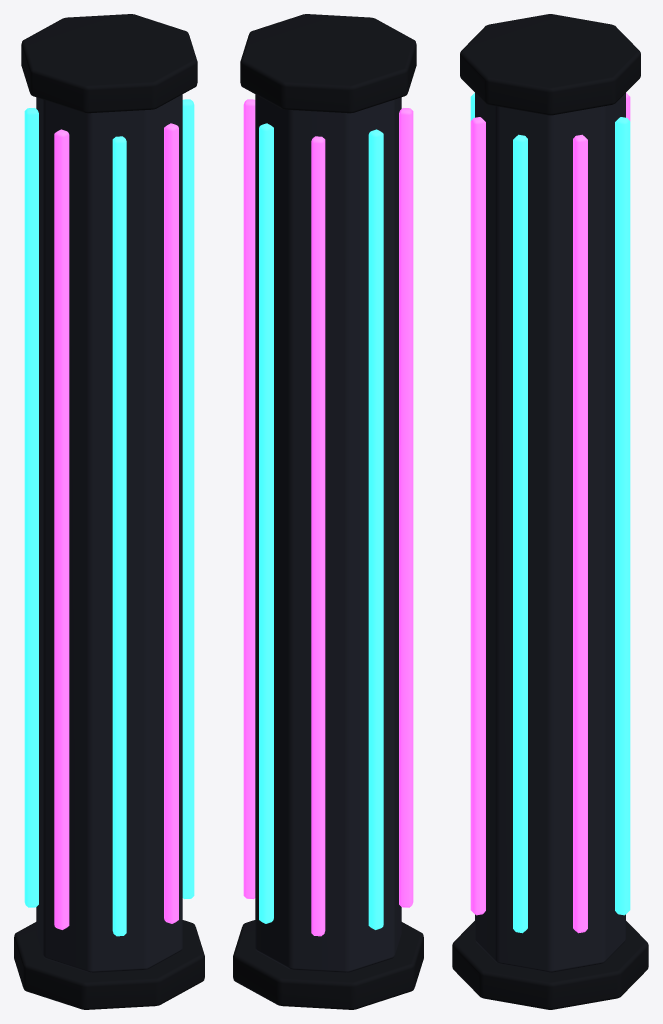
Rendered from led_column.glb.
3 renders of one model, left to right at view 1: azimuth 30°, elevation 25°; view 2: azimuth 150°, elevation 25°; view 3: azimuth 270°, elevation 25°, orthographic.
Parts seen in each view (by area): view 1: led_column; view 2: led_column; view 3: led_column.
Part boxes in pixels (x1,y1,x2,y2): led_column: [14, 14, 204, 1009]; led_column: [233, 14, 423, 1009]; led_column: [452, 14, 648, 1009].
Size of the model in its own units: 0.5155 by 2.66 by 0.5155.
